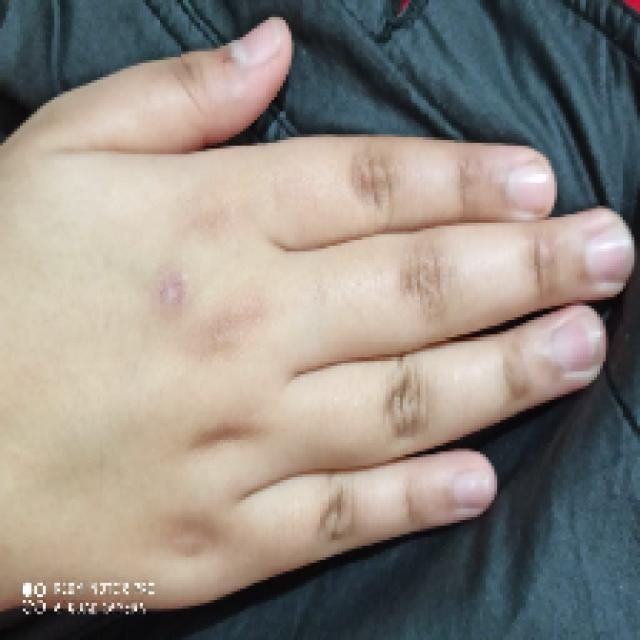Nail: (552, 314, 601, 371), (229, 19, 285, 68), (585, 229, 634, 281), (508, 164, 555, 211), (452, 471, 490, 508)
